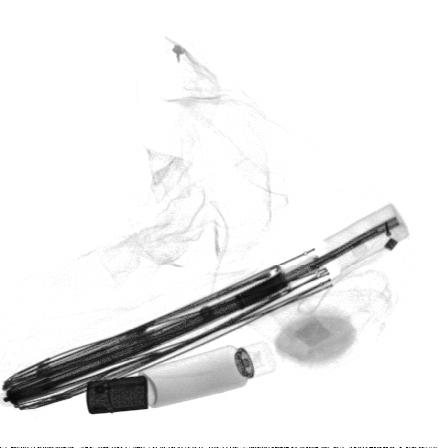Lighter: (86, 376, 149, 415)
Sprayer: (136, 341, 278, 410)
